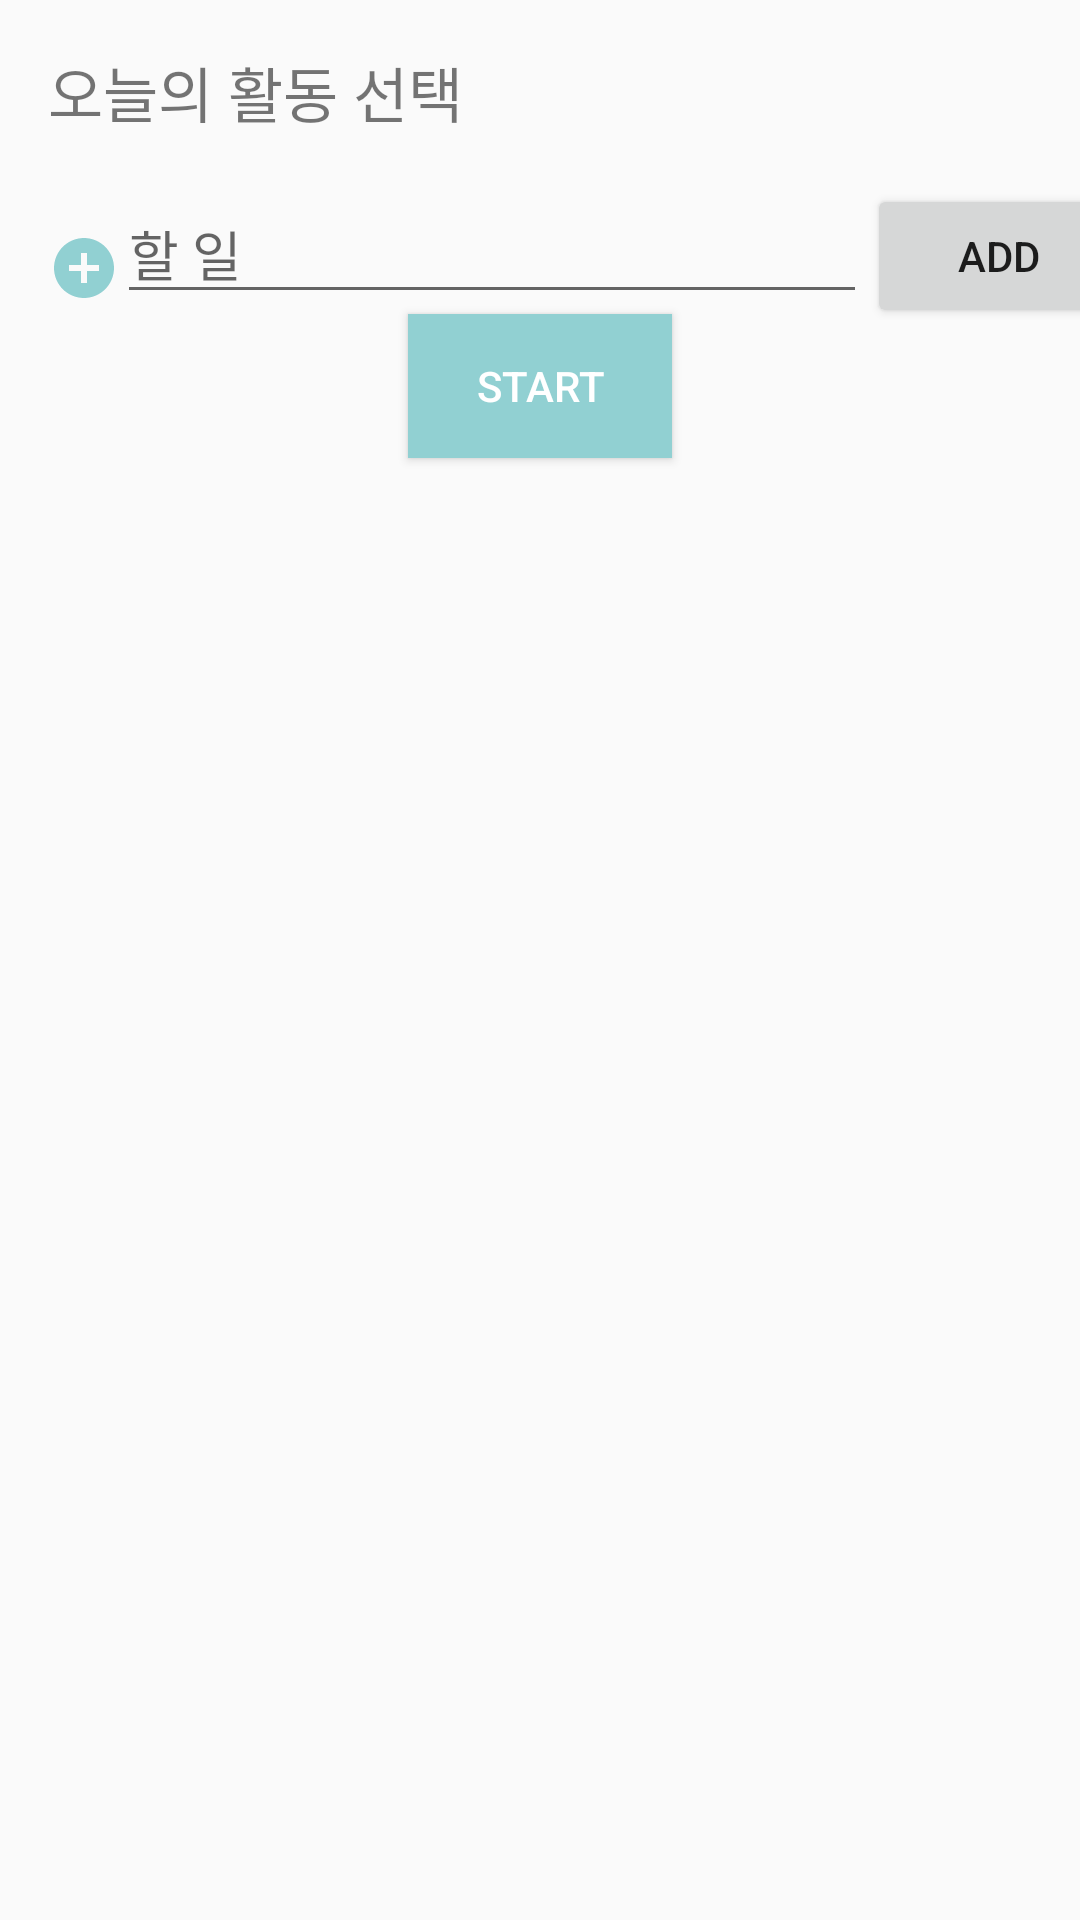

Named icons in this screenshot (1080*1920) and their centers, (x=x, y=y):
add circle mint: (x=84, y=268)
